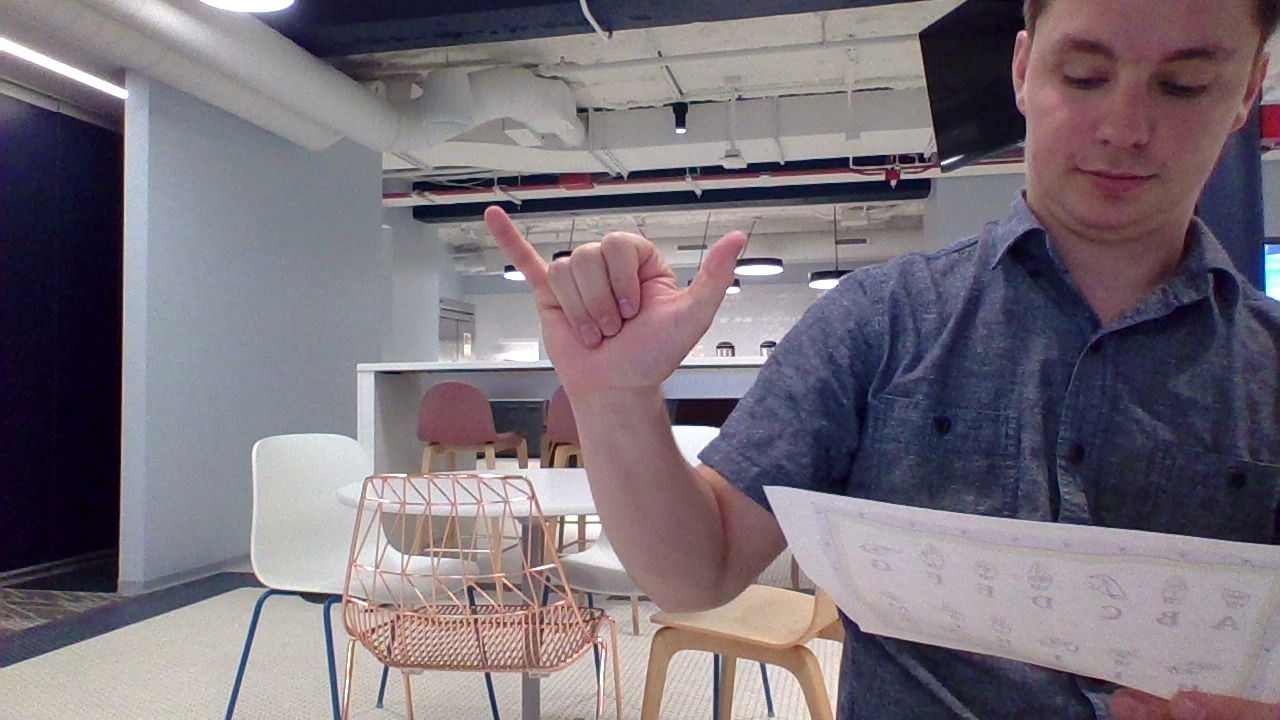y: (461, 188, 778, 412)
